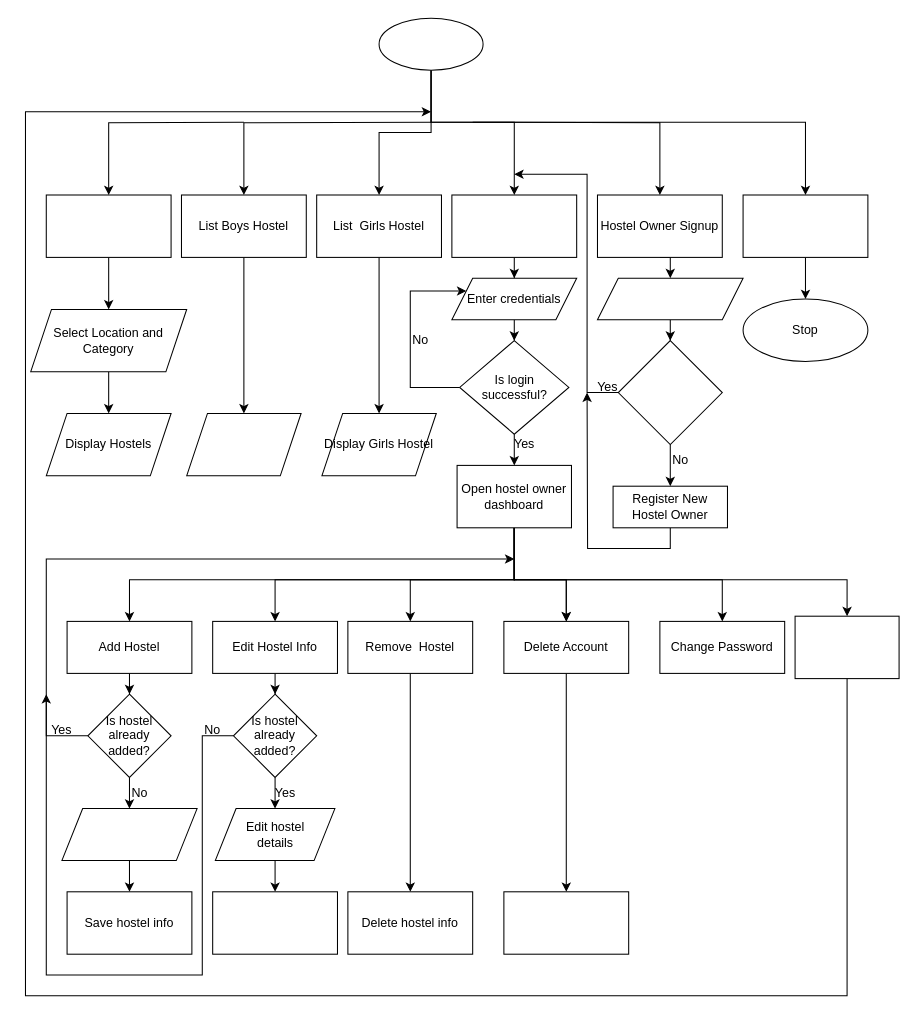
This 917x1022 diagram has some shape labels left out. Here are the shapes that lost their labels. From the top down, the box of each, then its label:
(378, 17, 483, 70): Start
(45, 194, 171, 257): Search Hostel
(451, 194, 577, 257): Hostel Owner Login
(742, 194, 868, 257): Exit
(596, 277, 743, 320): Enter owner details
(617, 340, 722, 445): Is mobile number already registered?
(186, 412, 301, 476): Display Boys Hostels
(794, 615, 899, 679): Logout
(61, 808, 197, 861): Enter hostel details
(212, 891, 337, 954): Update hostel info
(503, 891, 629, 954): Delete hostel owner account info
